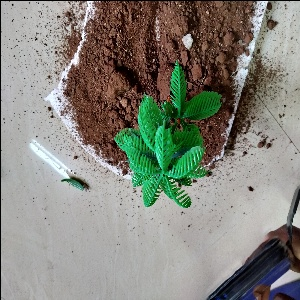plant: (121, 64, 216, 206)
